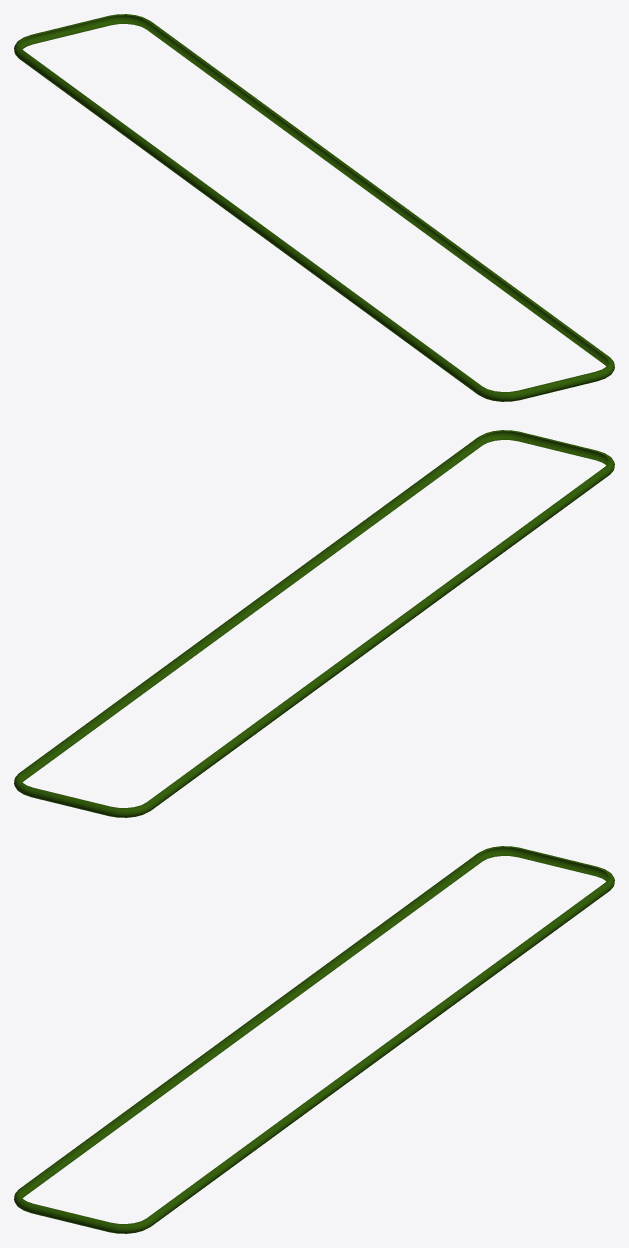
Rendered from original-10.obj.
3 renders of one model, top to bottom at view 1: azimuth 30°, elevation 25°; view 2: azimuth 150°, elevation 25°; view 3: azimuth 330°, elevation 25°, orthographic.
Visible parts, largest first — view 1: #ID55; view 2: #ID55; view 3: #ID55.
Boxes of the visible parts, left/top/right/bottom form: #ID55: left=14, top=14, right=614, bottom=401; #ID55: left=14, top=430, right=614, bottom=817; #ID55: left=14, top=846, right=614, bottom=1233.
Bounding box in the file's own units: 0.1307 × 0.00801 × 0.8323.
